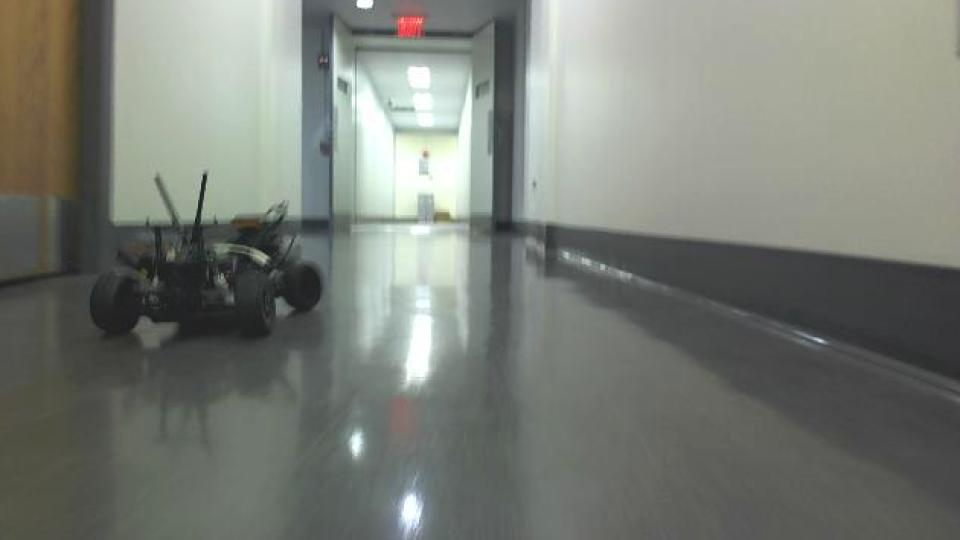car: (85, 167, 324, 342)
